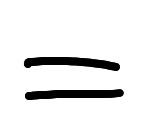eqv: (24, 57, 124, 99)
